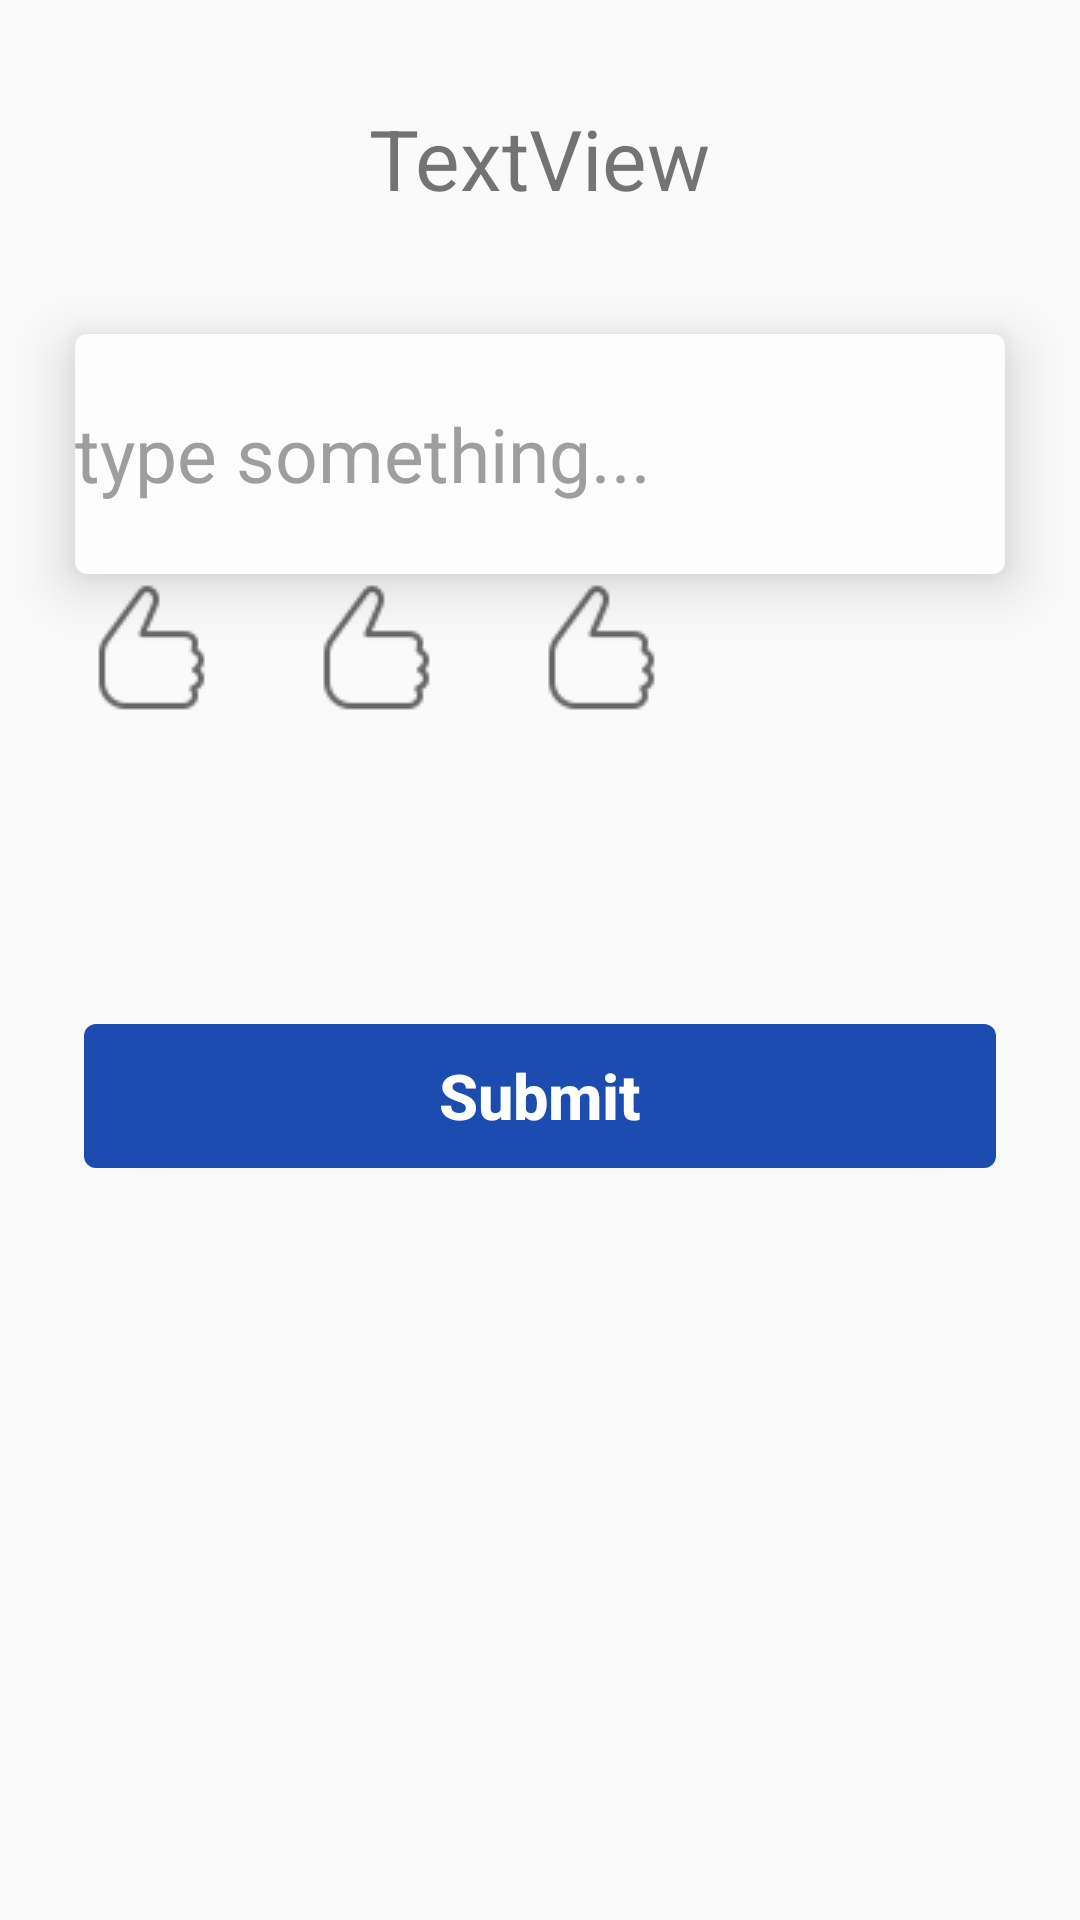

Icon click points for this 1080w x 1920h phone screenshot, format (x=x, y=y):
like: (x=151, y=647), (x=376, y=647), (x=601, y=647)
